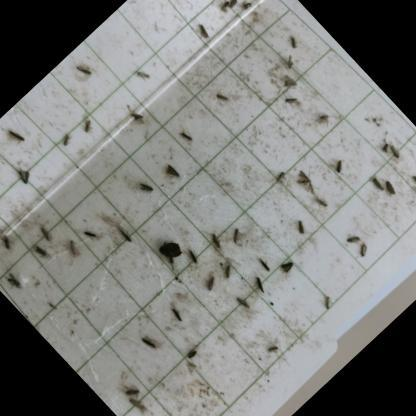prays_oleae: (2, 152, 40, 190), (287, 162, 322, 197), (0, 115, 34, 150), (0, 265, 33, 301), (131, 324, 165, 358), (256, 333, 288, 366), (157, 297, 189, 330), (201, 223, 232, 255), (242, 268, 274, 299), (188, 15, 218, 48), (323, 150, 354, 181), (116, 374, 147, 405), (263, 160, 293, 192), (336, 223, 366, 254), (111, 219, 141, 250), (172, 122, 202, 152), (121, 387, 151, 416), (128, 170, 157, 199), (221, 218, 250, 247), (72, 54, 100, 84), (132, 60, 160, 90), (192, 267, 221, 295), (77, 218, 105, 247), (158, 158, 186, 186), (50, 126, 78, 154), (364, 172, 392, 200), (313, 286, 341, 314), (272, 249, 300, 276), (74, 114, 101, 141), (179, 343, 206, 370), (307, 188, 333, 214), (61, 235, 86, 261), (276, 46, 301, 71), (276, 87, 301, 112), (379, 177, 403, 202), (27, 238, 52, 262), (0, 229, 20, 258), (312, 106, 336, 130), (353, 238, 377, 262), (228, 288, 252, 312), (180, 243, 204, 267), (33, 223, 57, 247), (254, 250, 277, 274), (212, 84, 234, 108), (126, 104, 148, 126), (292, 216, 314, 238), (385, 140, 406, 162), (212, 0, 236, 17), (372, 138, 392, 158), (280, 72, 299, 92), (216, 260, 235, 279), (404, 165, 416, 195), (284, 33, 300, 50), (226, 0, 247, 12), (238, 0, 257, 13)
